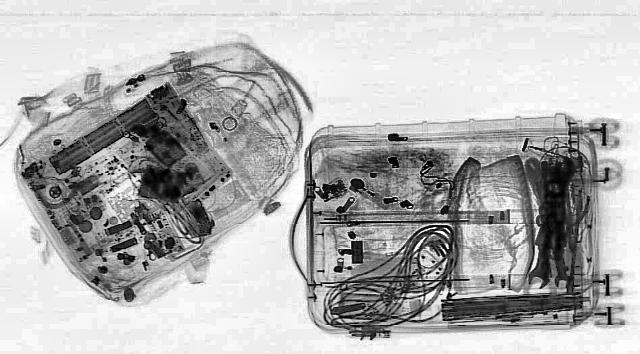Wrench: (524, 234, 560, 288), (547, 240, 573, 286)
